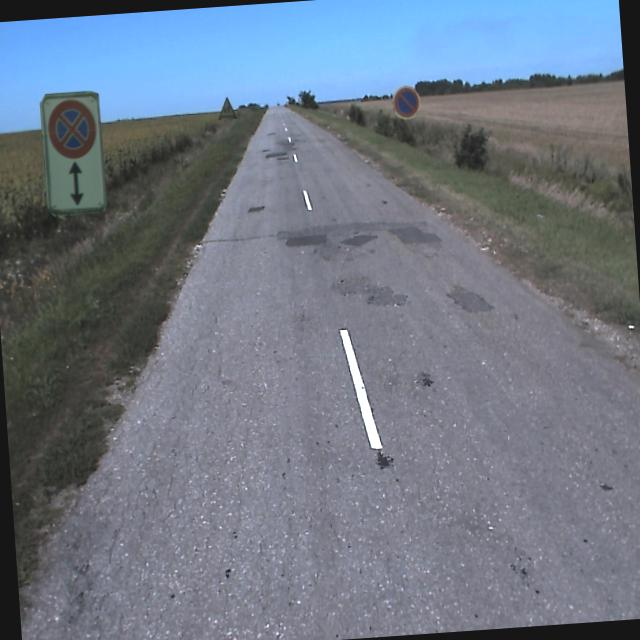road: (20, 106, 640, 640)
